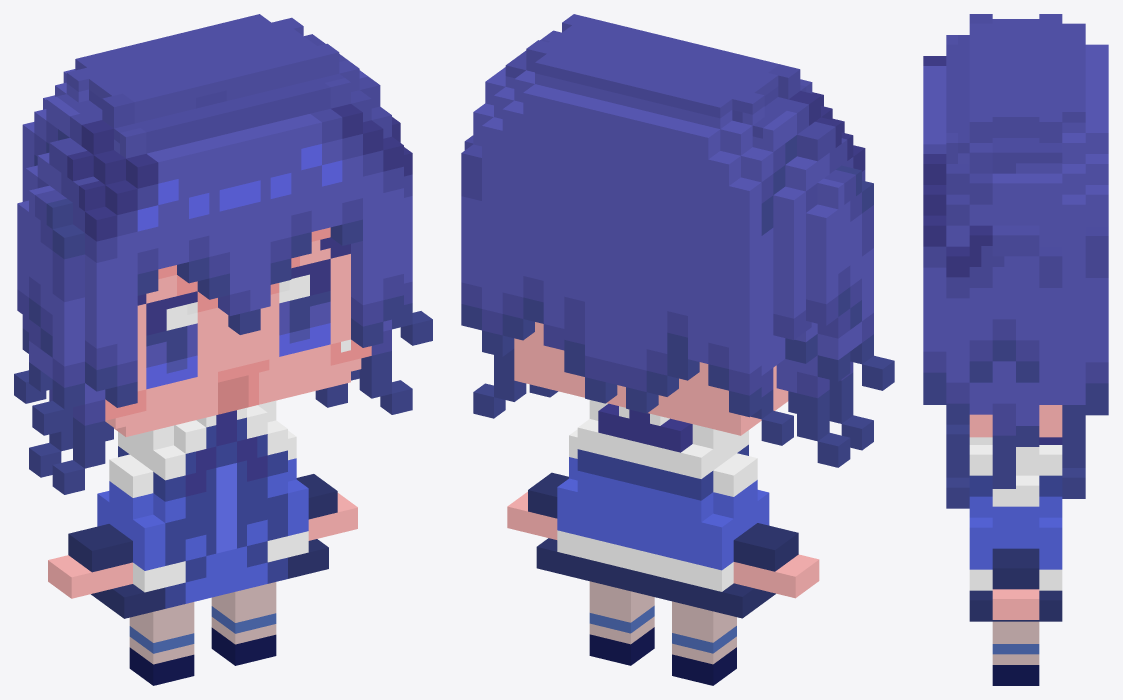
The model's file is chibi.glb.
3 views of the same model, side by side, from view 1: azimuth 30°, elevation 25°; view 2: azimuth 150°, elevation 25°; view 3: azimuth 270°, elevation 25° (orthographic). The views are drawn at different scales.
Visible parts, largest first — view 1: Object_2; view 2: Object_2; view 3: Object_2.
Boxes of the visible parts, x1,y1,x2,y2 form: Object_2: (14, 14, 432, 685); Object_2: (461, 14, 894, 685); Object_2: (923, 14, 1108, 685).
Bounding box in the file's own units: 38 × 56 × 16.
1 material, 1 textured.
